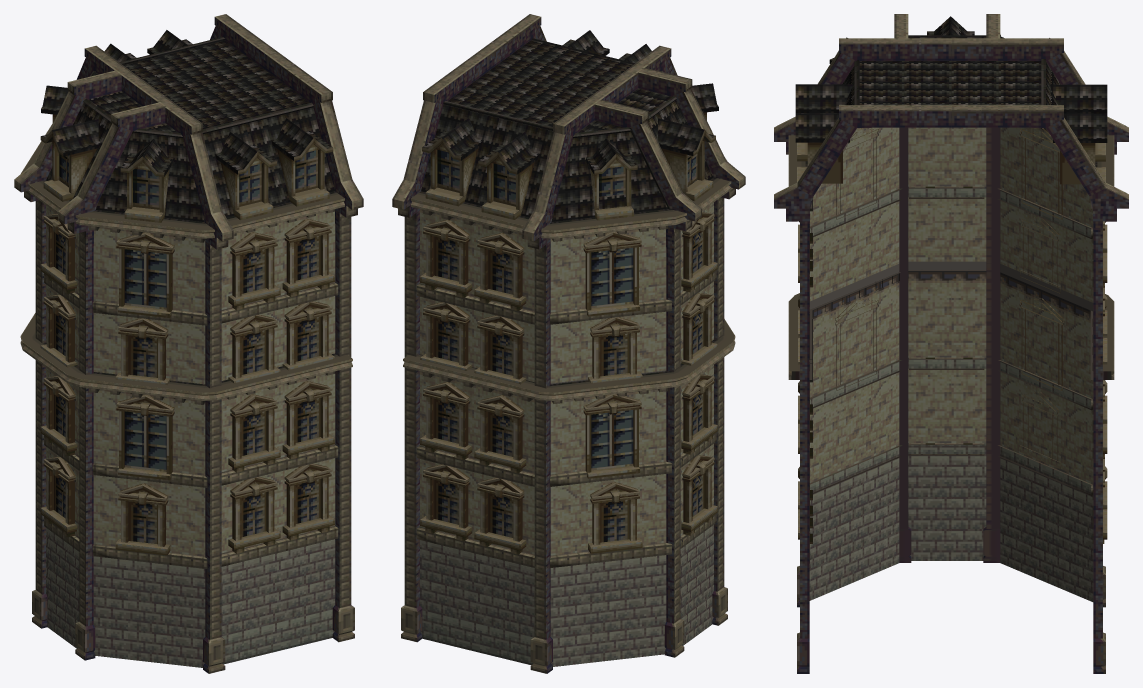
File: EnvBdgMD_City_B_Outdoor_L_G.FBX
3 renders of one model, left to right at view 1: azimuth 30°, elevation 25°; view 2: azimuth 150°, elevation 25°; view 3: azimuth 270°, elevation 25°, orthographic. The views are drawn at different scales.
Visible parts, largest first — view 1: EnvBdgMD_City_B_Outdoor_L_G; view 2: EnvBdgMD_City_B_Outdoor_L_G; view 3: EnvBdgMD_City_B_Outdoor_L_G.
Part boxes in pixels (x1,y1,x2,y2): EnvBdgMD_City_B_Outdoor_L_G: (14,14,363,673); EnvBdgMD_City_B_Outdoor_L_G: (392,14,745,673); EnvBdgMD_City_B_Outdoor_L_G: (774,14,1128,673).
Bounding box in the file's own units: 631 × 1313 × 751.
1 material, 1 textured.
